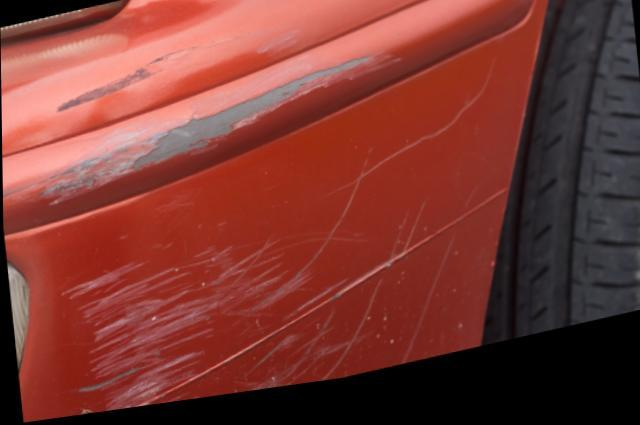scratch: (62, 96, 492, 415), (7, 31, 429, 213)
